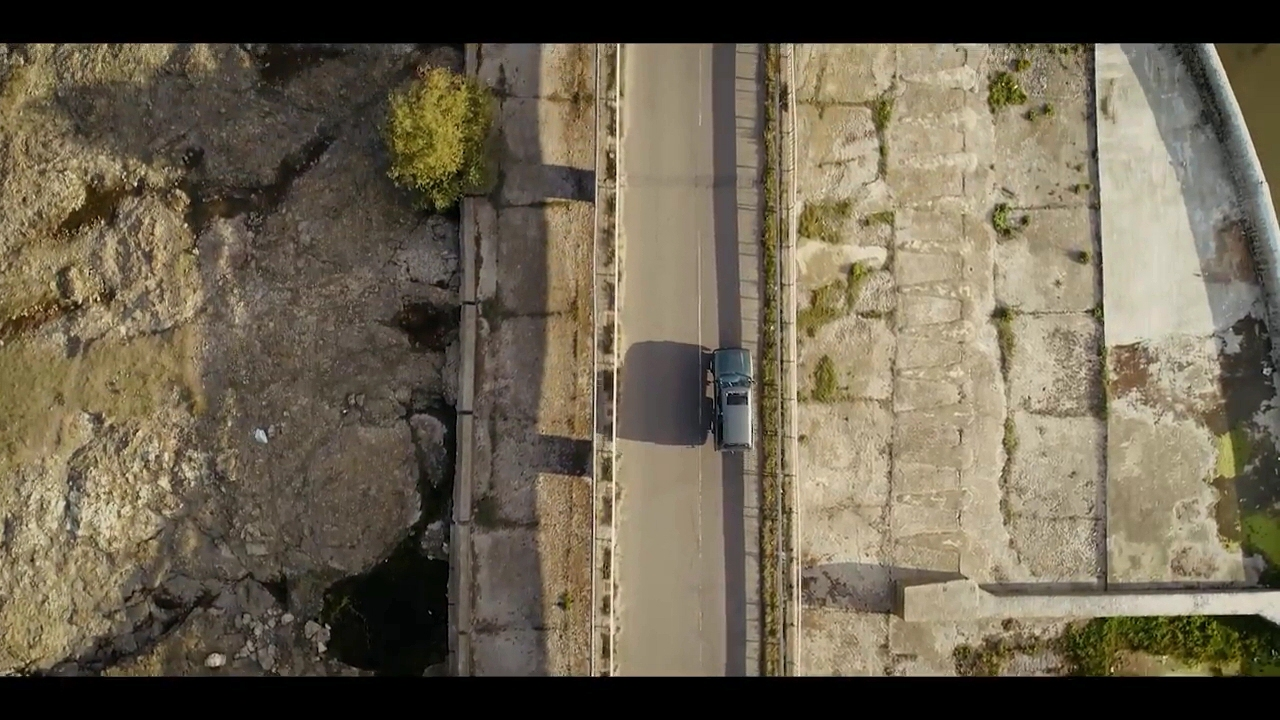araba: (711, 346, 754, 455)
